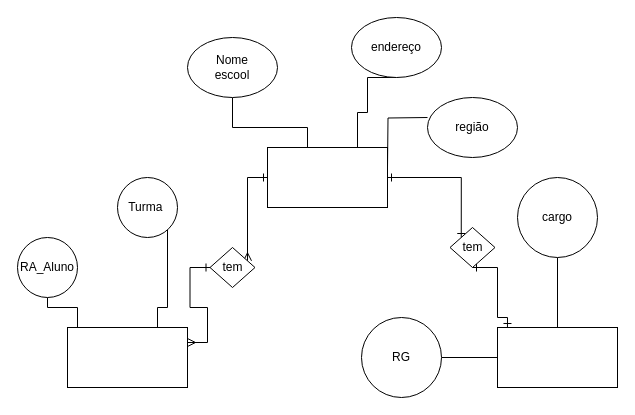
The diagram is 635 pixels wide and 415 high, and some of its shapes have lost their labels. Here are the shapes that lost their labels. From the top down, the box of each, then its label:
(266, 146, 388, 208): escola
(66, 326, 188, 388): alunos
(496, 326, 618, 388): gestão
